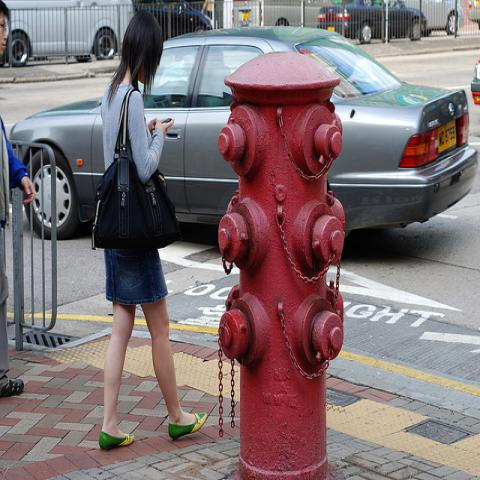car: (10, 26, 475, 240), (4, 0, 136, 69), (320, 1, 428, 42), (135, 1, 213, 42), (233, 0, 336, 28), (399, 0, 464, 36), (470, 57, 479, 109)
